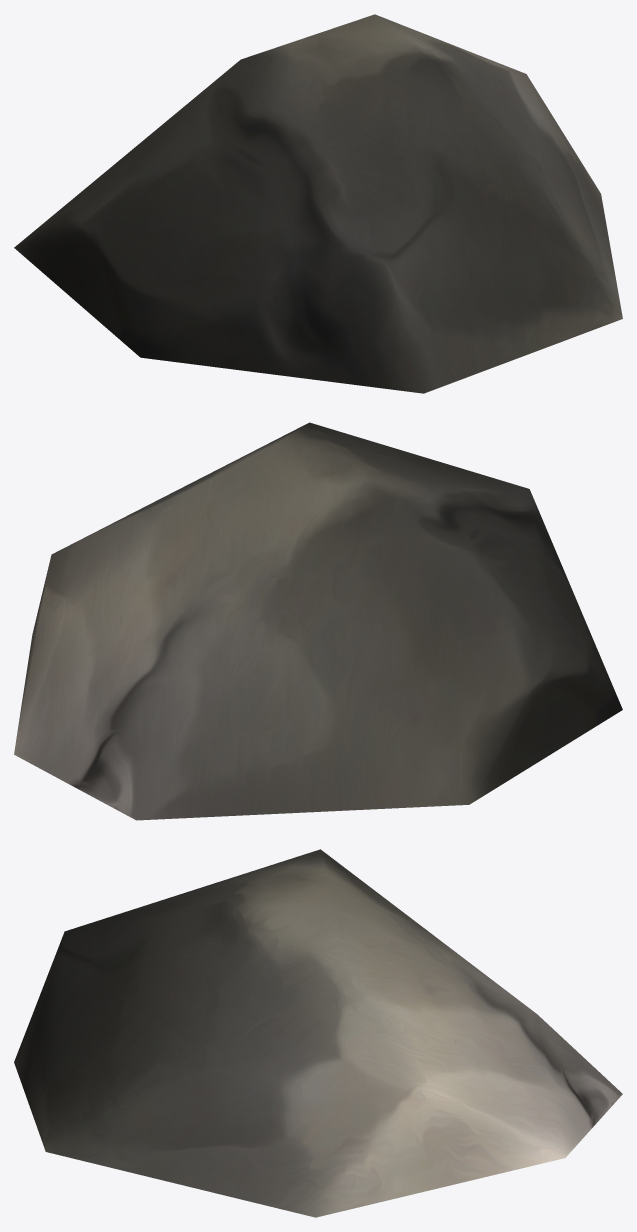
The model's file is stone1.fbx.
3 renders of one model, top to bottom at view 1: azimuth 30°, elevation 25°; view 2: azimuth 150°, elevation 25°; view 3: azimuth 270°, elevation 25°, orthographic. The views are drawn at different scales.
Parts seen in each view (by area): view 1: stone1; view 2: stone1; view 3: stone1.
Boxes of the visible parts, x1,y1,x2,y2 form: stone1: [14, 14, 622, 393]; stone1: [14, 422, 622, 820]; stone1: [14, 849, 622, 1217].
Size of the model in its own units: 169 by 70.28 by 183.
1 material, 1 textured.
